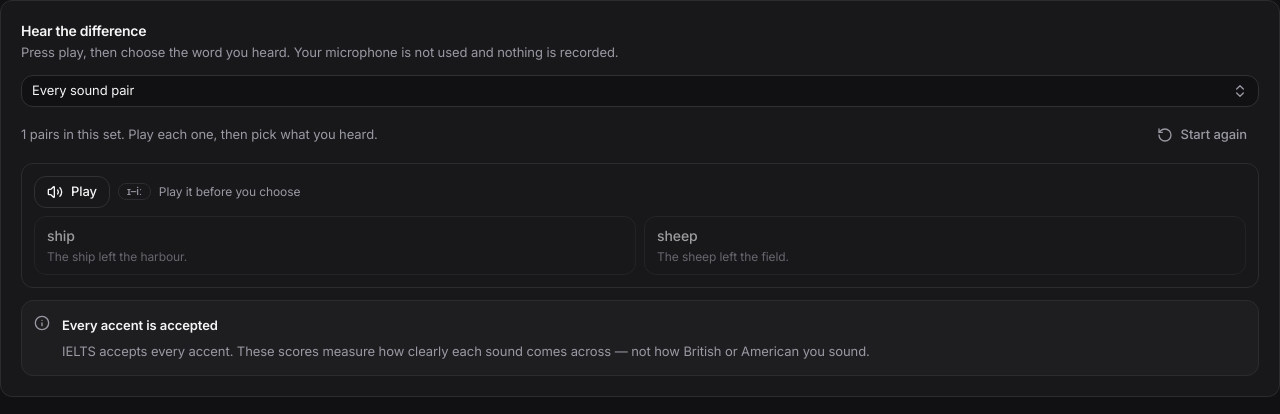
Test case: the minimal-pair drill › names the sound pairs with example words instead of bare phonetic symbols
Step 1. Click the button labelled "Every sound pair" → (83, 90), box [21,74,1259,106]
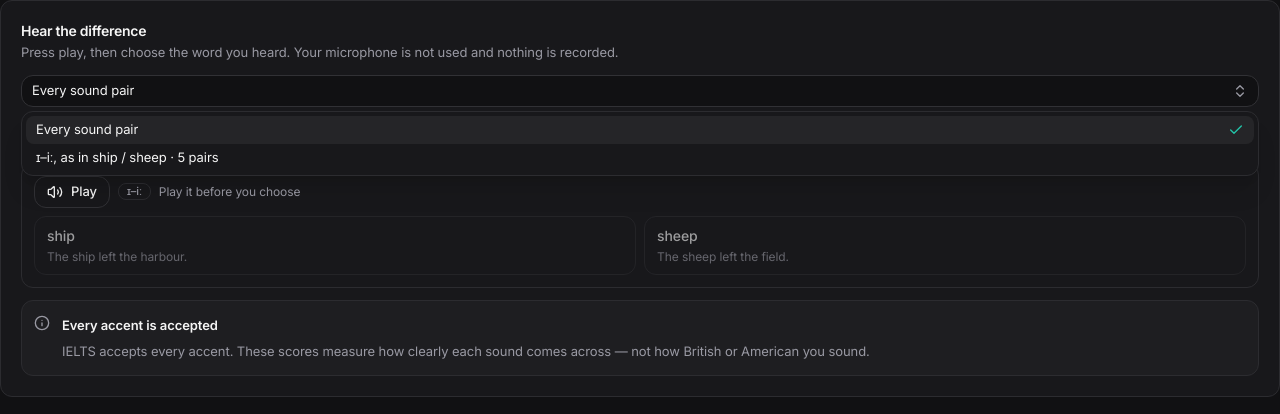
Check: the text "ɪ–iː, as in ship / sheep · 5 pairs" is shown, box [36,148,218,167]
